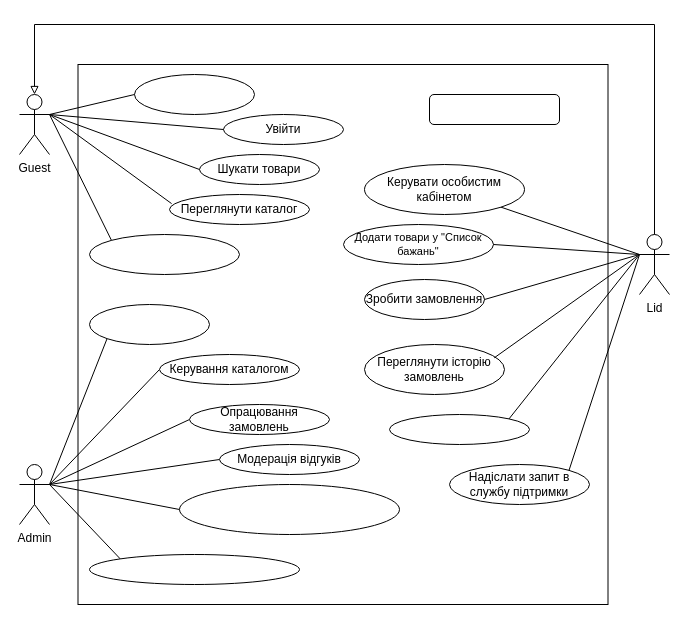
Some shapes in this 687 by 622 pixel diagram are drawn without their labels. Here are the shapes that lost their labels. From the top down, the box of each, then its label:
(134, 74, 254, 114): Зареєструватись
(428, 94, 560, 124): Lite
(88, 234, 240, 274): Додати товари у кошик
(88, 304, 210, 344): Авторизація в адмін-панелі
(388, 414, 530, 444): Залишати відгук
(178, 484, 400, 534): Переглядати та відповідати на запити підтримки від клієнтів
(88, 554, 300, 584): Аналіз статистики та звітів
